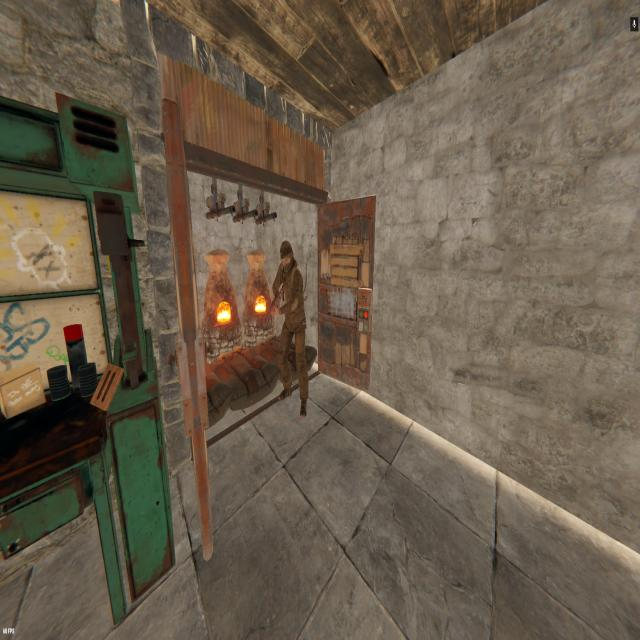Player: (272, 239, 310, 420)
